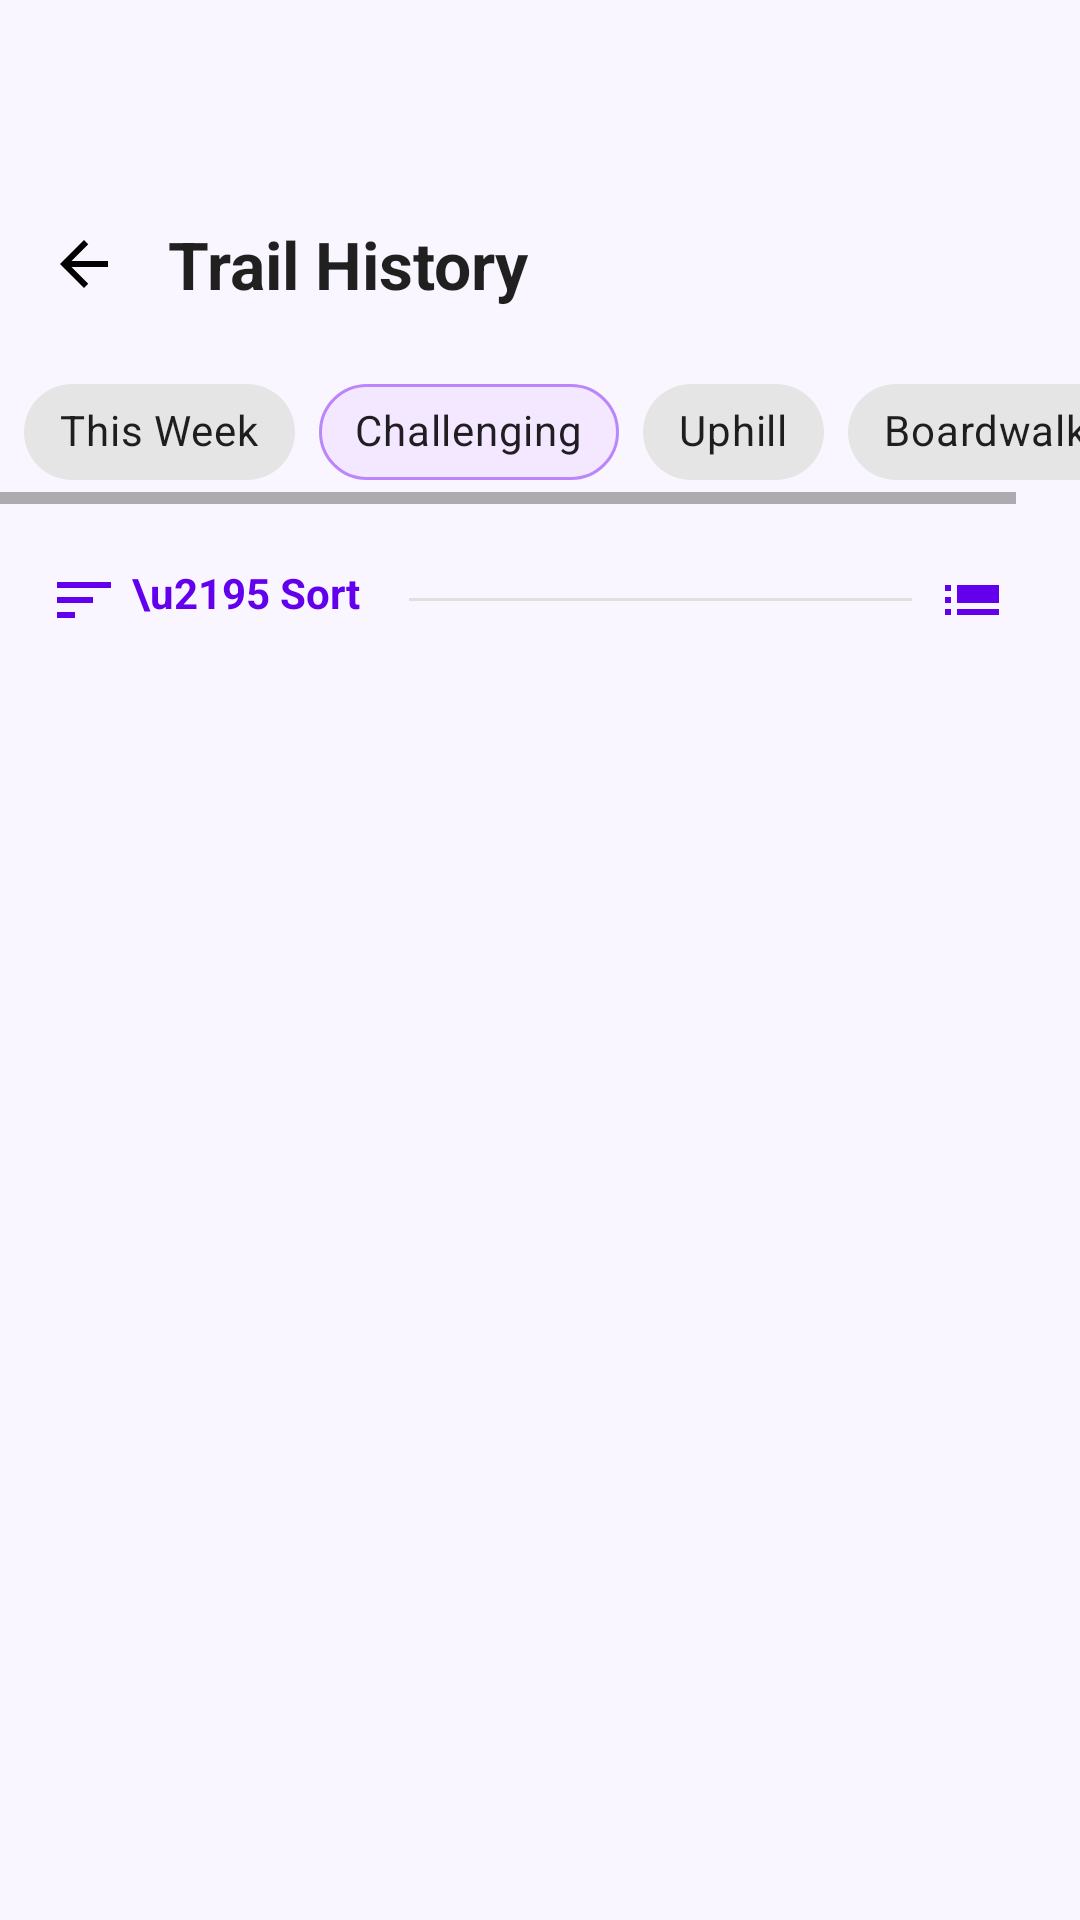

Icon bounding boxes for this 1080 × 1920 phone screenshot, format (x1, y1, x2, y2):
Back: (60, 240, 108, 288)
